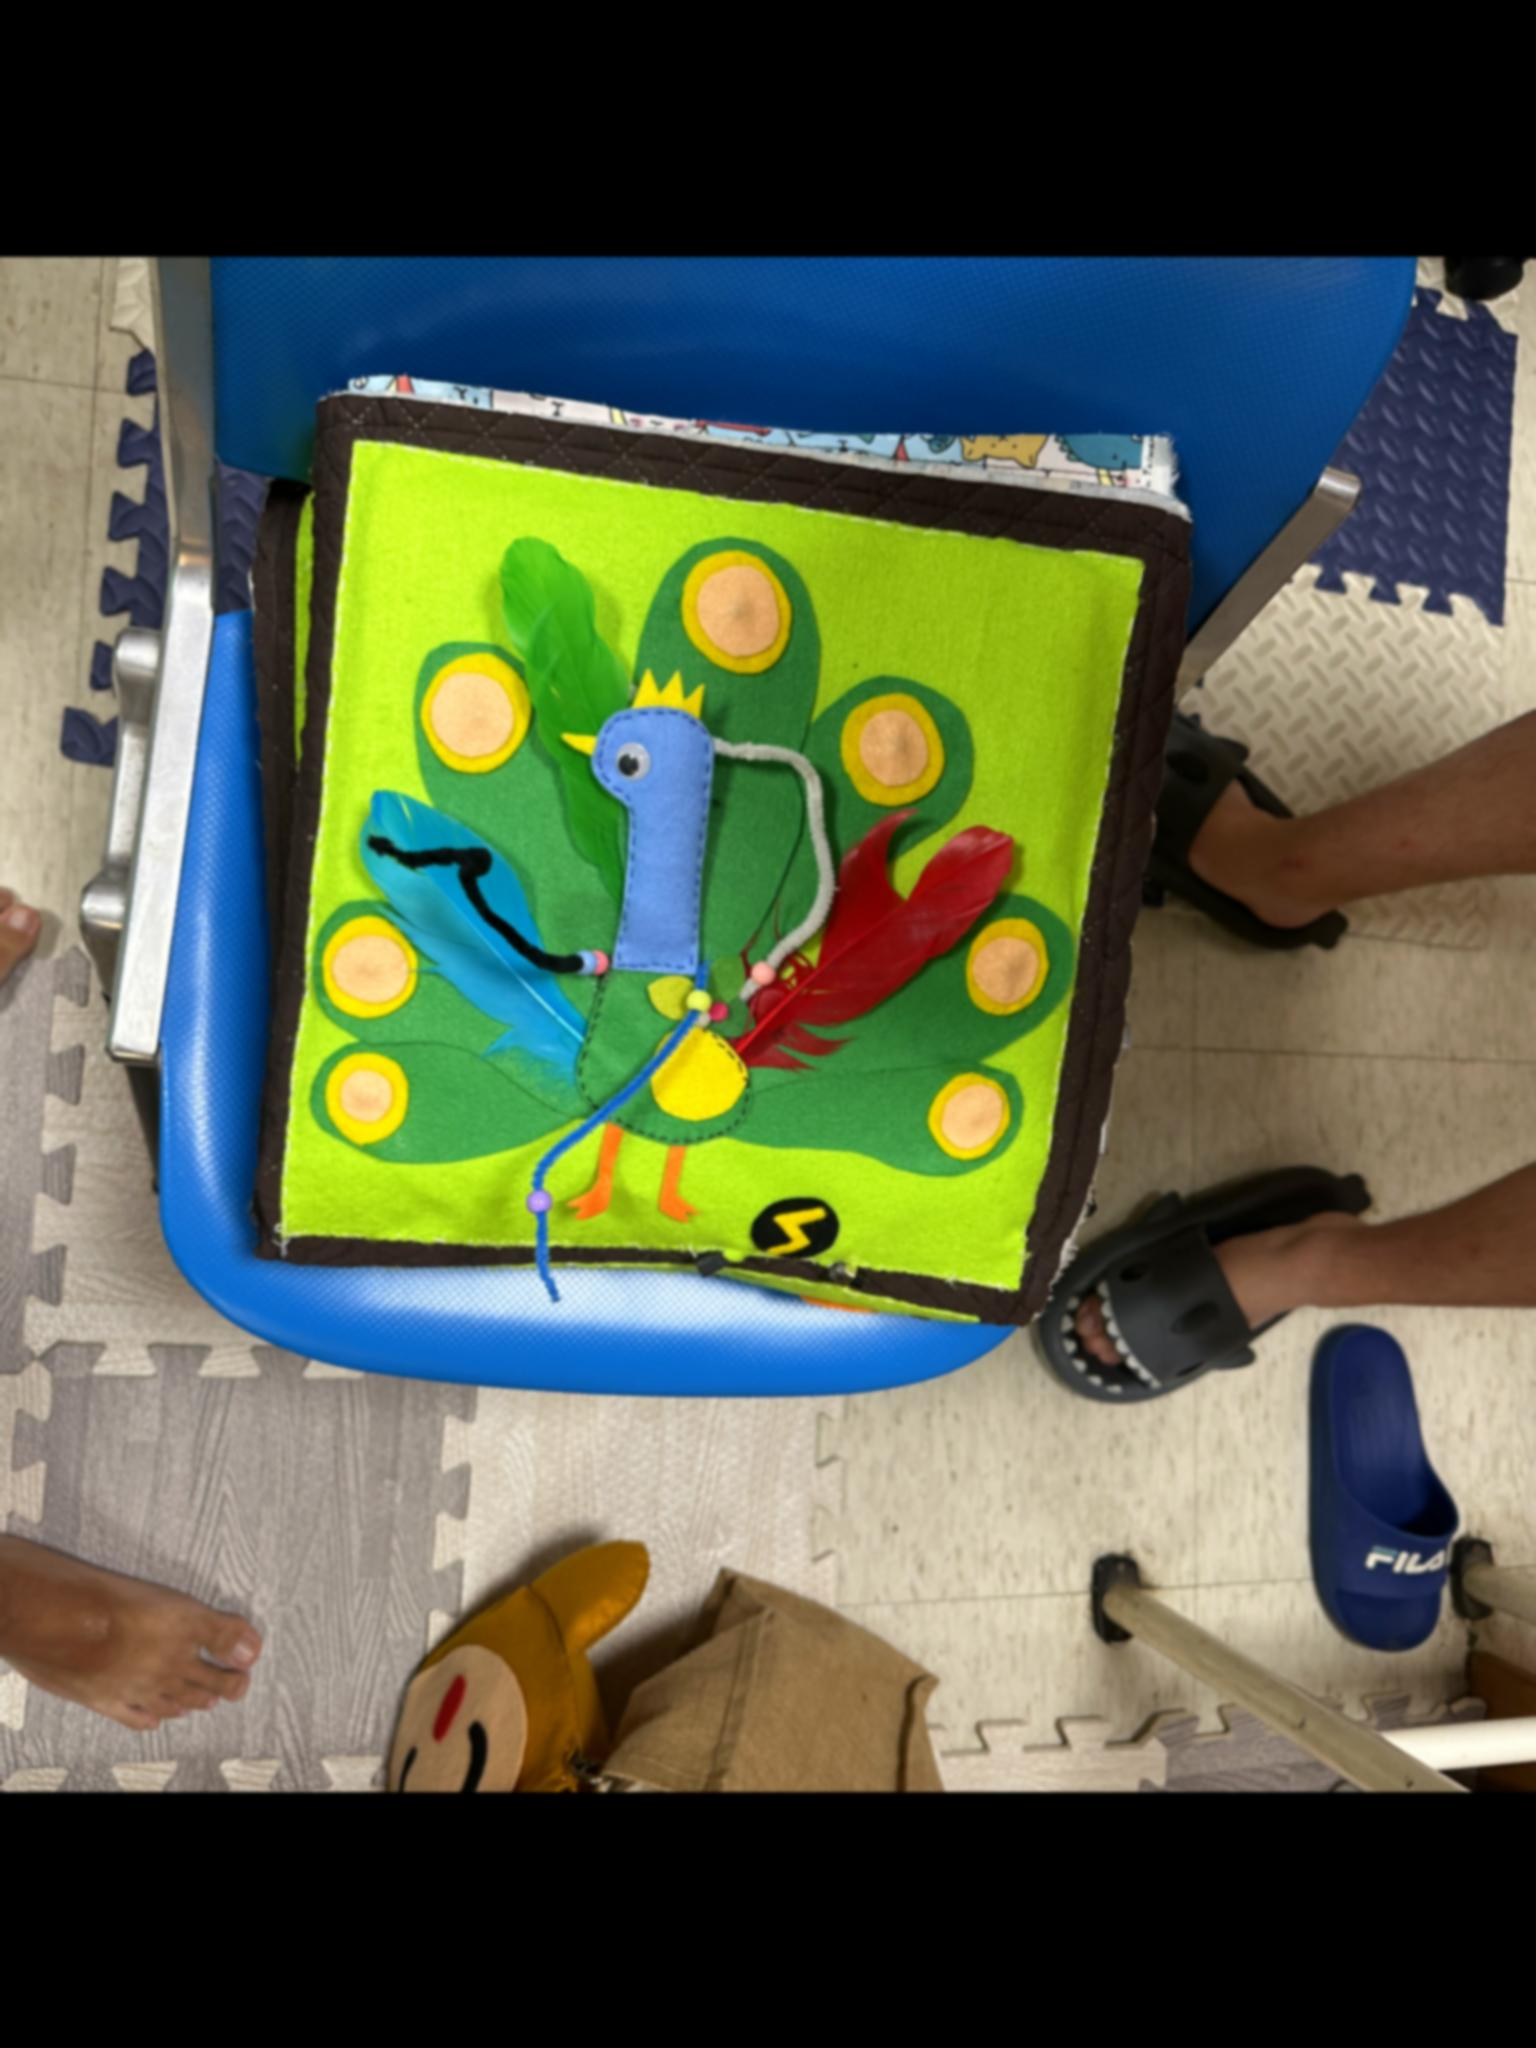bead: (518, 1182, 561, 1218), (750, 955, 789, 990), (682, 985, 720, 1018), (578, 942, 599, 992), (595, 947, 616, 985)
